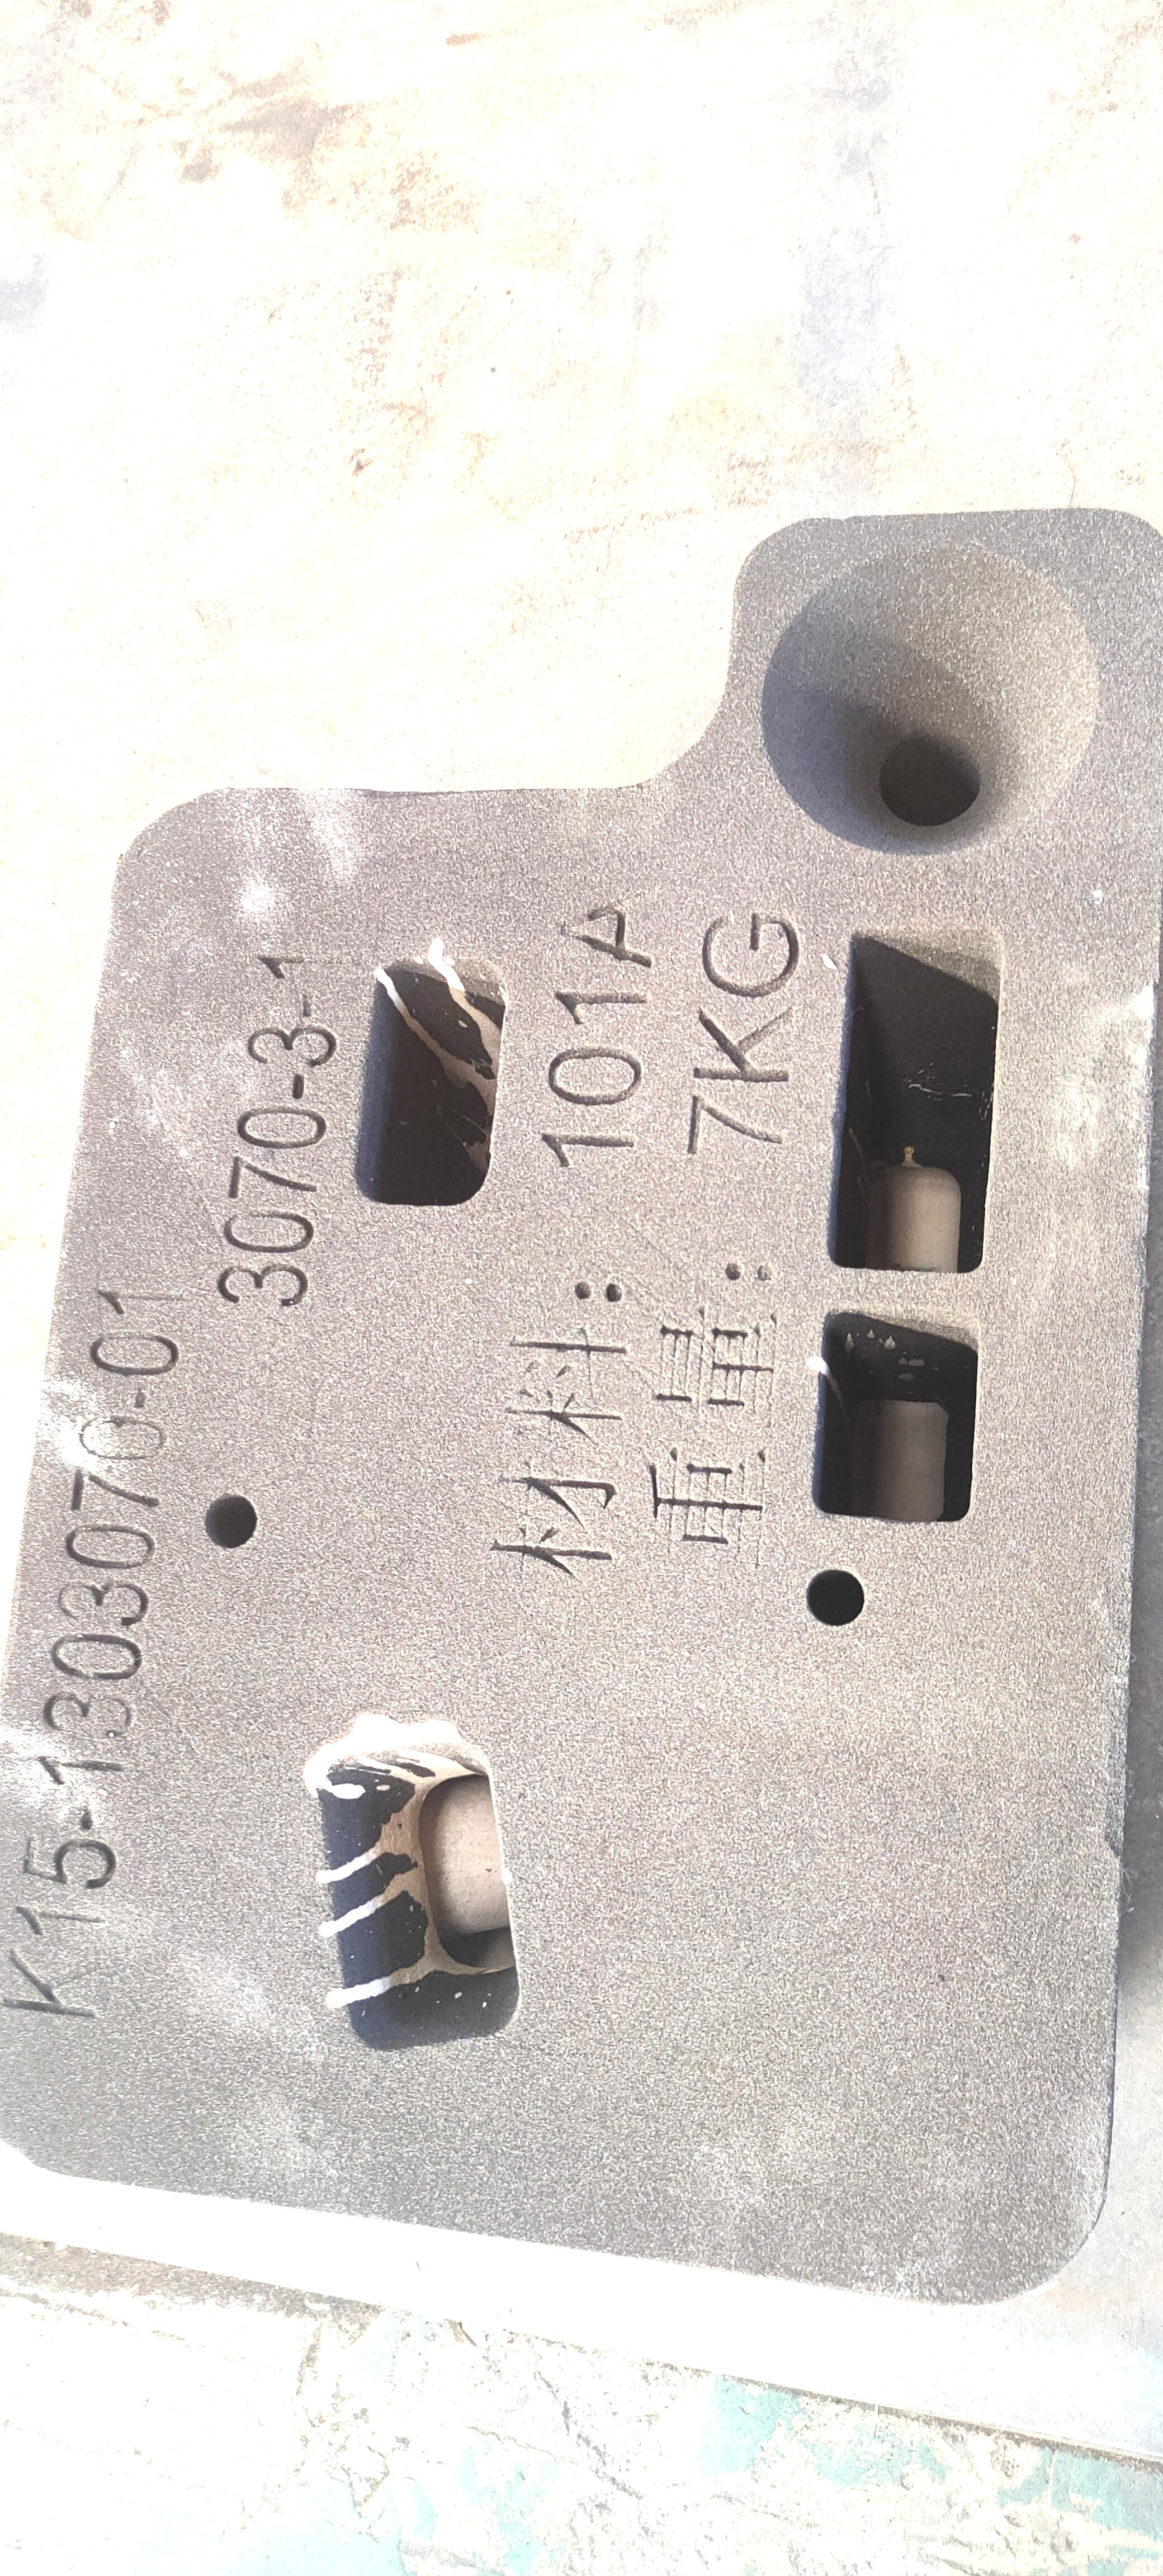pouring hole: (762, 544, 1099, 862)
